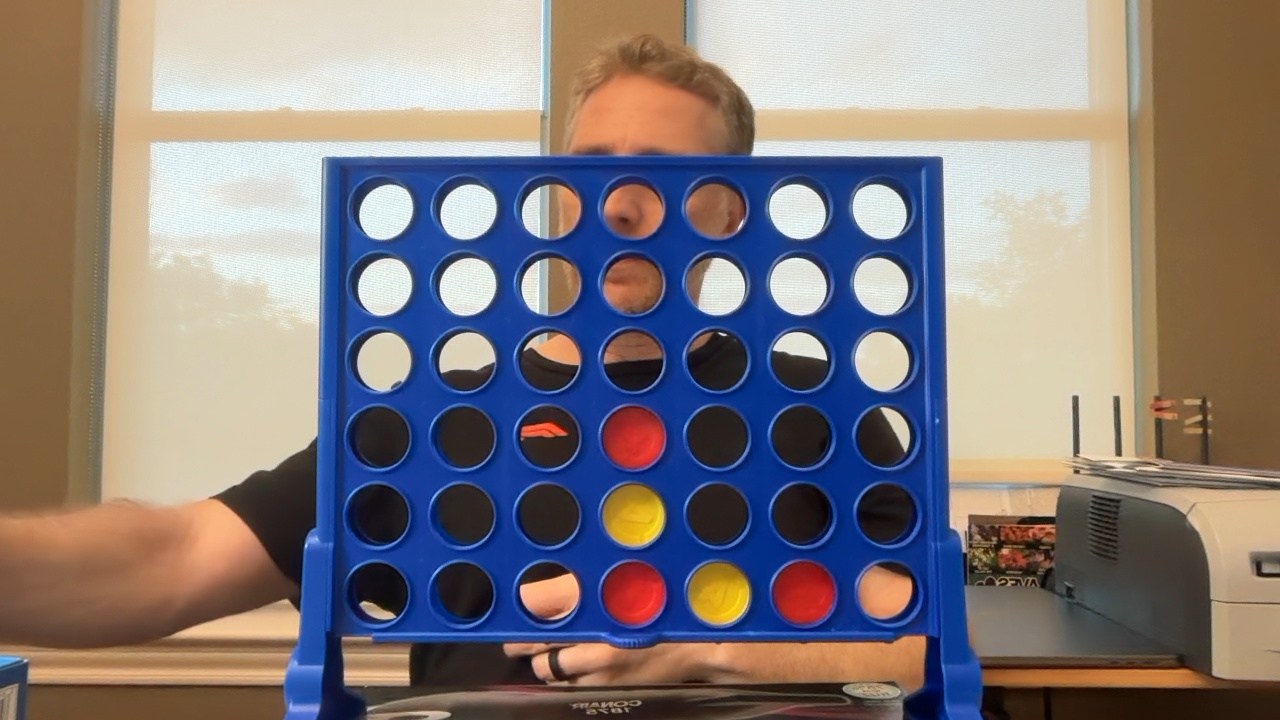red piece: (772, 560, 835, 626), (602, 561, 666, 625), (602, 406, 665, 469)
yellow piece: (687, 561, 750, 625), (602, 483, 665, 547)
